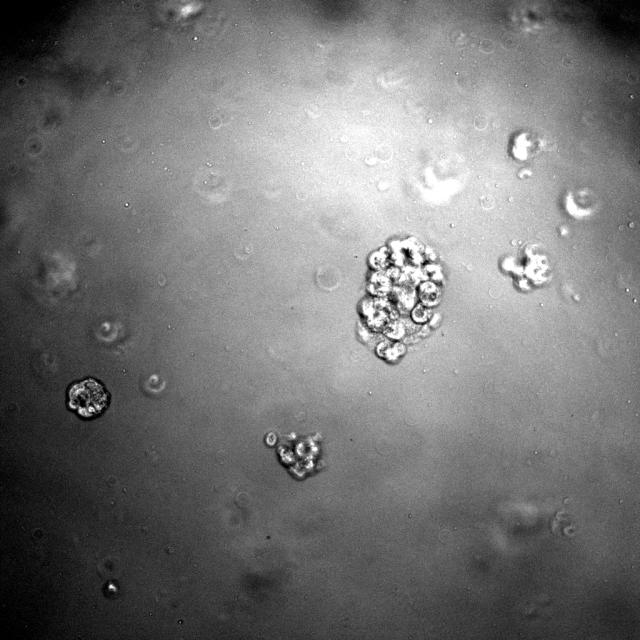organoid: (356, 236, 444, 364), (264, 431, 322, 480), (501, 244, 552, 292), (66, 377, 110, 420)
